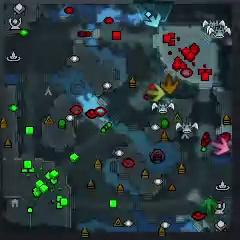x1: (212, 138, 228, 154)
x2: (146, 84, 164, 101)
x3: (144, 11, 163, 29)
x4: (200, 198, 217, 214)
x5: (162, 76, 178, 94)
